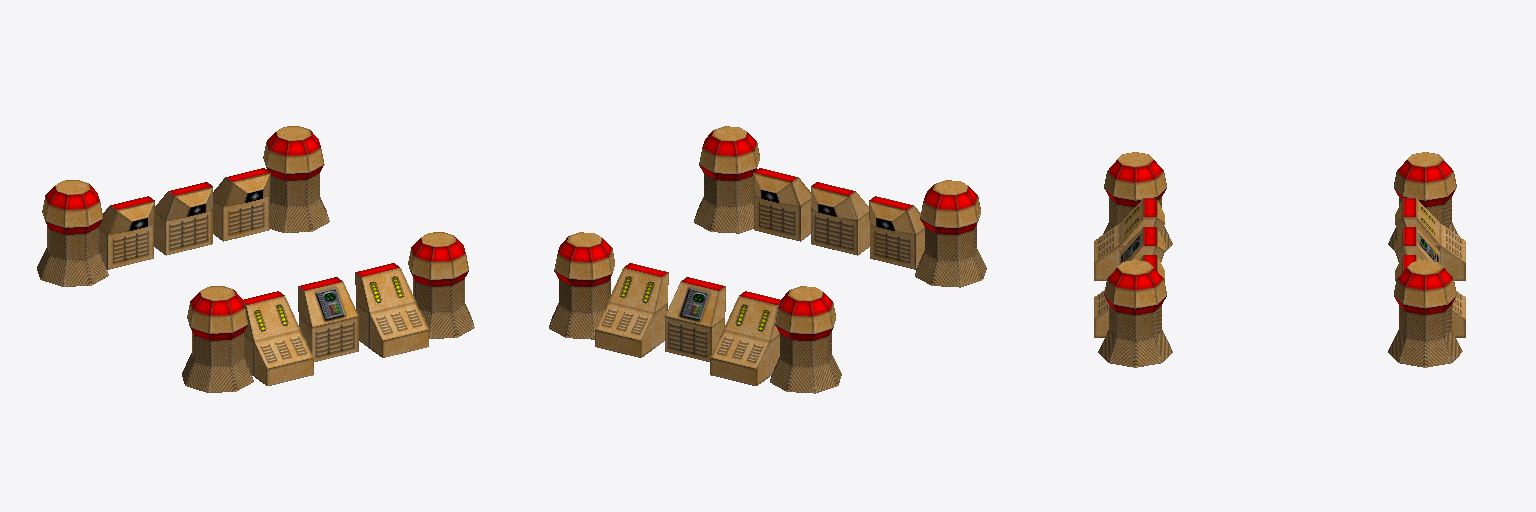
3 views of the same model, side by side, from view 1: azimuth 30°, elevation 25°; view 2: azimuth 150°, elevation 25°; view 3: azimuth 270°, elevation 25° (orthographic).
Parts seen in each view (by area): view 1: cylinder1; view 2: cylinder1; view 3: cylinder1.
Boxes of the visible parts, x1=… form: cylinder1: x1=37, y1=126, x2=474, y2=392; cylinder1: x1=549, y1=126, x2=986, y2=393; cylinder1: x1=1094, y1=152, x2=1465, y2=367.
Size of the model in its own units: 12.32 by 3.5 by 13.88.
Materials: 3 (1 with a texture image).